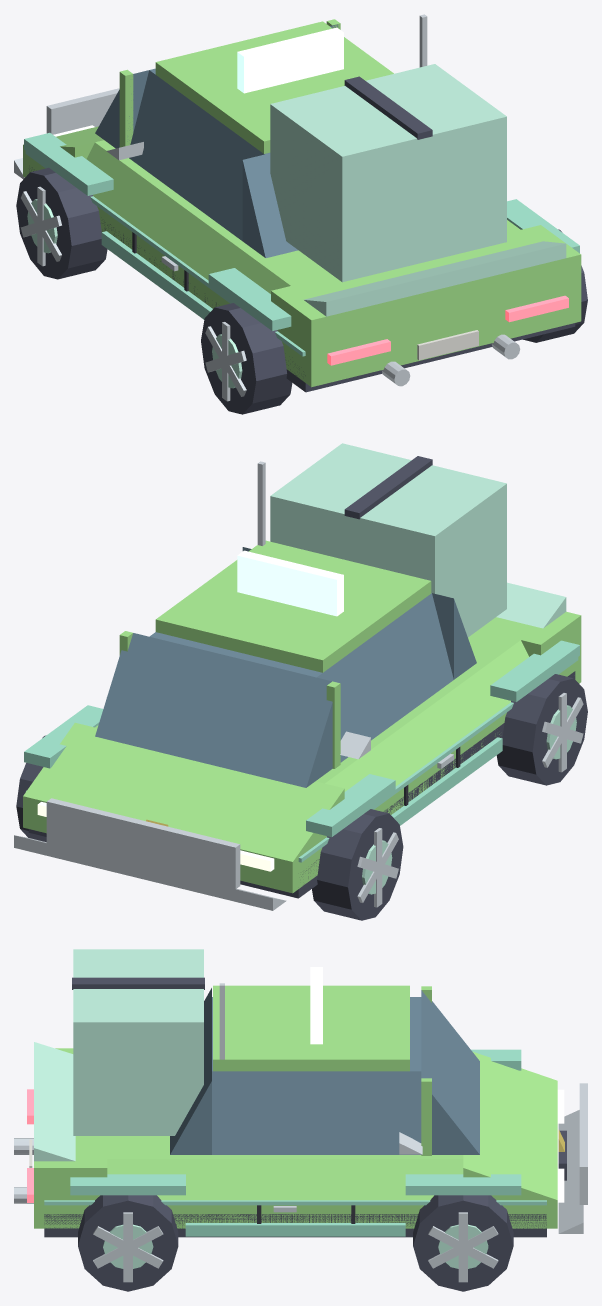
Rendered from old_town_trolley.glb.
3 views of the same model, one above another, from view 1: azimuth 30°, elevation 25°; view 2: azimuth 150°, elevation 25°; view 3: azimuth 270°, elevation 25° (orthographic). The views are drawn at different scales.
Visible parts, largest first — view 1: CourierBox.015, Tail.053, CabinSideL.050, Roof.253, Body.253, ShoulderL.050, Ducktail.038, Wheel_FL.213, Wheel_RL.213, RoofSign.027, RearWindow.153, BodyUpper.050 (+19 smaller); view 2: CourierBox.015, Windshield.153, Nose.050, Roof.253, CabinSideL.050, Bullbar.025, ShoulderL.050, Wheel_FL.213, Wheel_RL.213, RoofSign.027, Body.253, Bumper.249 (+16 smaller); view 3: CourierBox.015, CabinSideR.050, Roof.253, ShoulderR.050, Nose.050, Windshield.153, Body.253, Wheel_FR.213, Wheel_RR.213, Ducktail.038, Sill.249, Tail.053 (+22 smaller).
Part boxes in pixels (x1=…): CourierBox.015: x1=270, y1=64, x2=506, y2=282; Tail.053: x1=271, y1=225, x2=581, y2=355; CabinSideL.050: x1=129, y1=70, x2=264, y2=240; Roof.253: x1=155, y1=21, x2=393, y2=153; Body.253: x1=23, y1=145, x2=581, y2=387; ShoulderL.050: x1=86, y1=142, x2=290, y2=293; Ducktail.038: x1=303, y1=241, x2=566, y2=316; Wheel_FL.213: x1=16, y1=167, x2=107, y2=279; Wheel_RL.213: x1=201, y1=303, x2=292, y2=414; RoofSign.027: x1=237, y1=27, x2=343, y2=93; RearWindow.153: x1=242, y1=153, x2=297, y2=257; BodyUpper.050: x1=95, y1=140, x2=520, y2=285; CourierBox.015: x1=270, y1=443, x2=506, y2=637; Windshield.153: x1=95, y1=633, x2=332, y2=787; Nose.050: x1=23, y1=722, x2=344, y2=861; Roof.253: x1=155, y1=540, x2=431, y2=672; CabinSideL.050: x1=317, y1=593, x2=453, y2=762; Bullbar.025: x1=46, y1=798, x2=240, y2=889; ShoulderL.050: x1=325, y1=640, x2=528, y2=791; Wheel_FL.213: x1=312, y1=809, x2=403, y2=920; Wheel_RL.213: x1=496, y1=674, x2=587, y2=785; RoofSign.027: x1=237, y1=550, x2=343, y2=616; Body.253: x1=23, y1=651, x2=581, y2=893; Bumper.249: x1=14, y1=835, x2=286, y2=910; CourierBox.015: x1=73, y1=949, x2=203, y2=1135; CabinSideR.050: x1=212, y1=1071, x2=421, y2=1154; Roof.253: x1=213, y1=985, x2=409, y2=1071; ShoulderR.050: x1=107, y1=1159, x2=463, y2=1200; Nose.050: x1=463, y1=1052, x2=557, y2=1200; Windshield.153: x1=421, y1=990, x2=479, y2=1154; Body.253: x1=34, y1=1200, x2=557, y2=1228; Wheel_FR.213: x1=413, y1=1195, x2=513, y2=1291; Wheel_RR.213: x1=78, y1=1195, x2=178, y2=1291; Ducktail.038: x1=34, y1=1042, x2=75, y2=1161; Sill.249: x1=44, y1=1214, x2=546, y2=1237; Tail.053: x1=34, y1=1048, x2=107, y2=1200.
Size of the model in its own units: 3.4 by 2.84 by 5.48.
